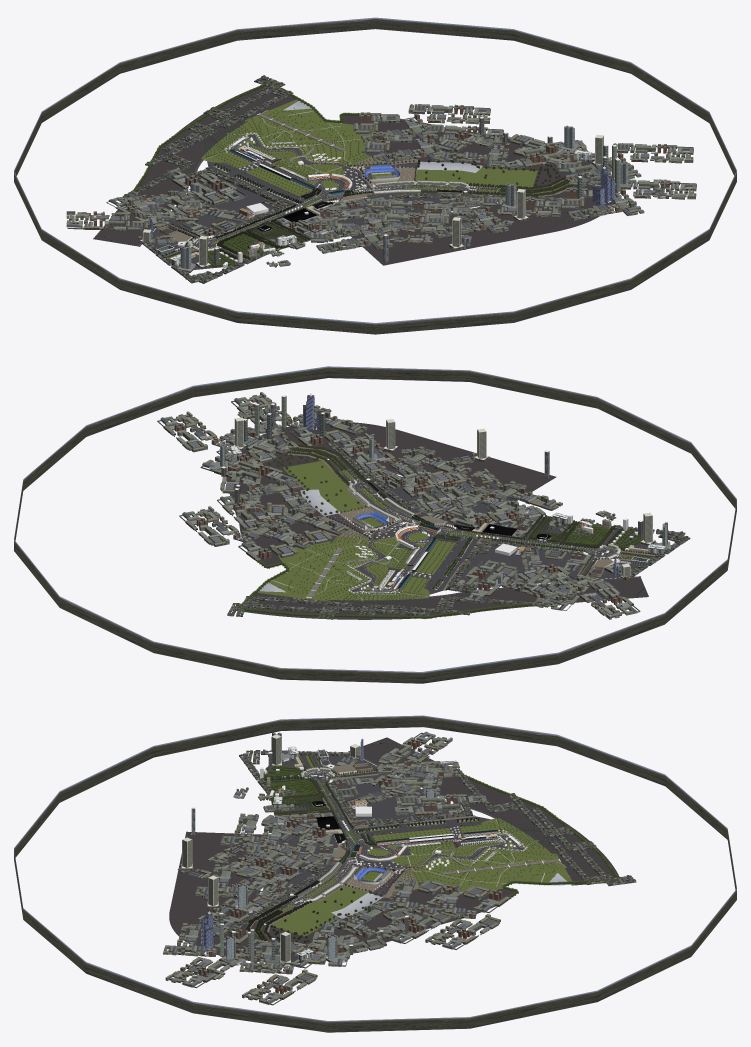
File: hanoi.glb
3 views of the same model, one above another, from view 1: azimuth 30°, elevation 25°; view 2: azimuth 150°, elevation 25°; view 3: azimuth 270°, elevation 25° (orthographic).
Visible parts, largest first — view 1: hanoi_street_circuit_0; view 2: hanoi_street_circuit_0; view 3: hanoi_street_circuit_0.
Part boxes in pixels (x1,y1,x2,y2): hanoi_street_circuit_0: (14, 17, 736, 334); hanoi_street_circuit_0: (14, 366, 736, 683); hanoi_street_circuit_0: (14, 715, 736, 1032).
Size of the model in its own units: 3914 by 262 by 3914.
94 materials, 89 textured.
